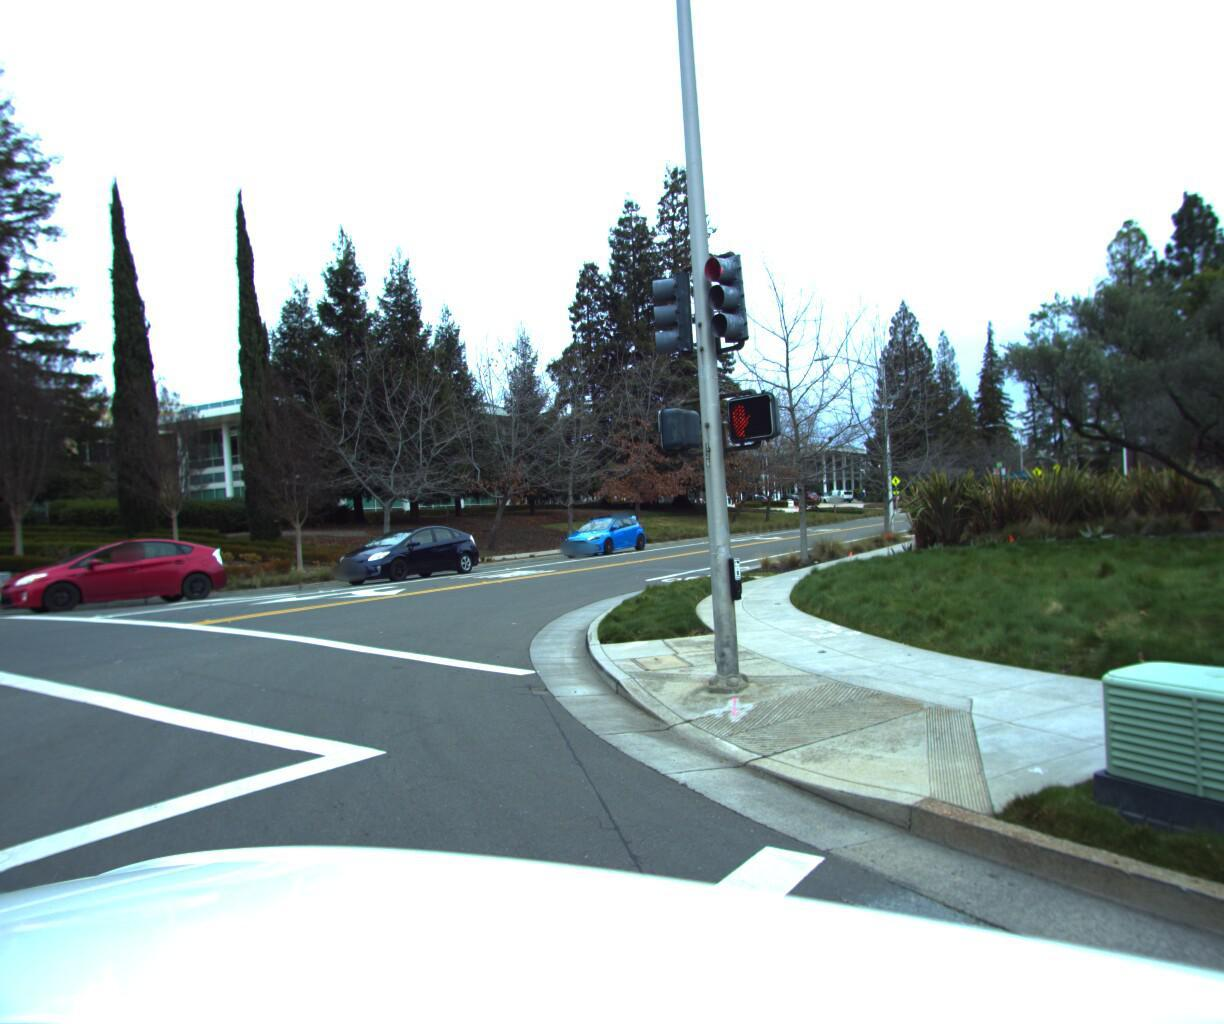car: (0, 532, 235, 619), (322, 516, 487, 584), (554, 508, 649, 556)
